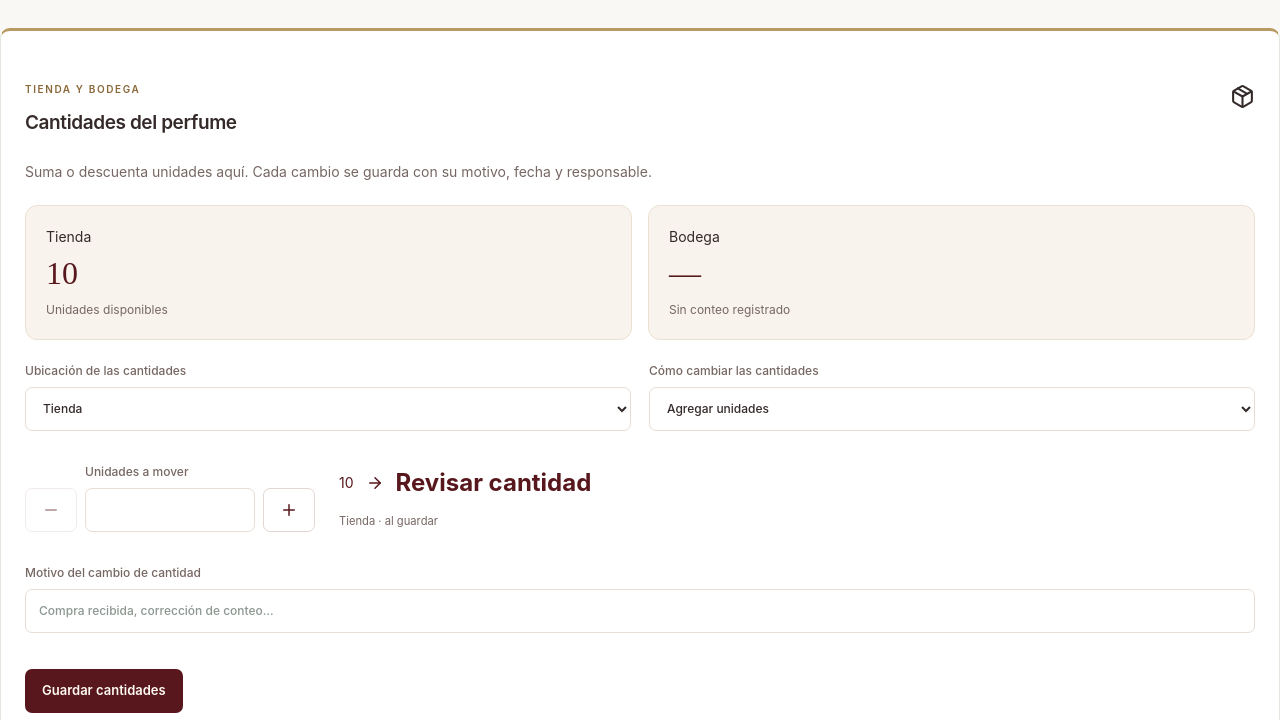
Test: adds a delta and reloads the authoritative stock after saving
The image size is (1280, 720).
Expected: the dropdown labelled "Ubicación de las cantidades" is shown, x1=25 y1=387 x2=631 y2=431
Type "2" into the number field labelled "Unidades a mover" at (170, 510), box x1=85 y1=488 x2=255 y2=532
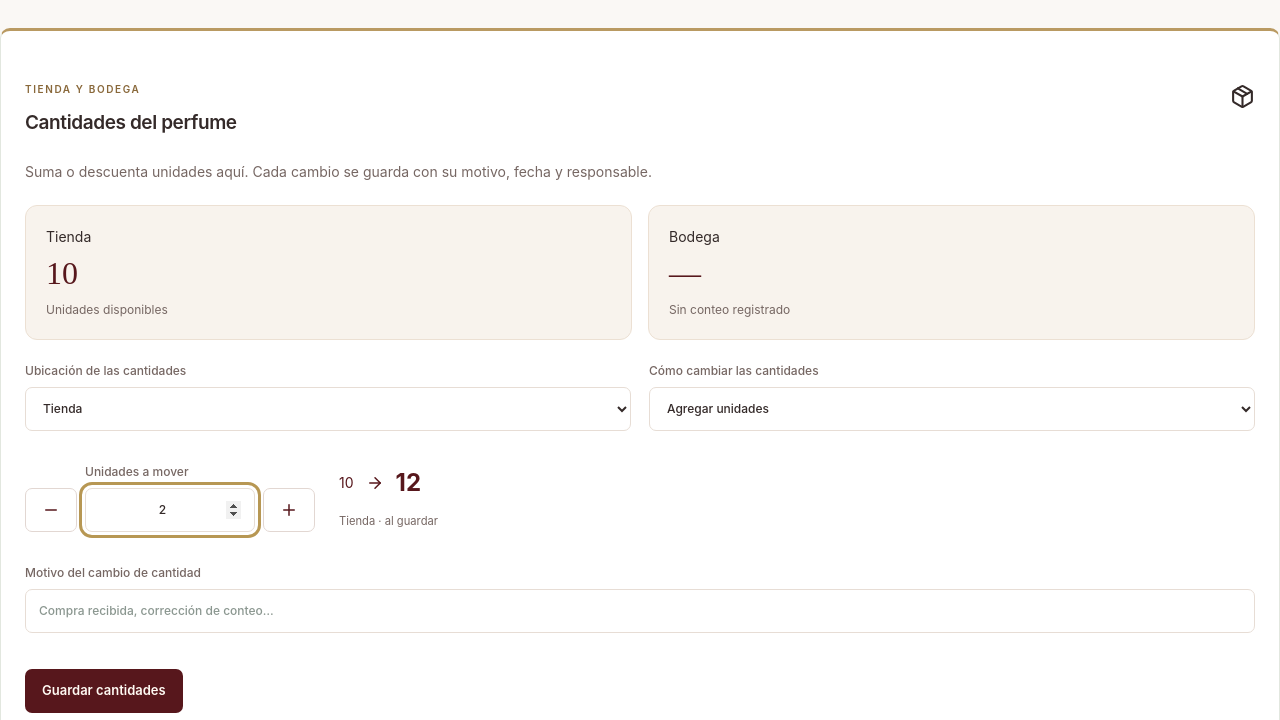
Type "Conteo revisado" into the field labelled "Motivo del cambio de cantidad" at (640, 611), box x1=25 y1=589 x2=1255 y2=633
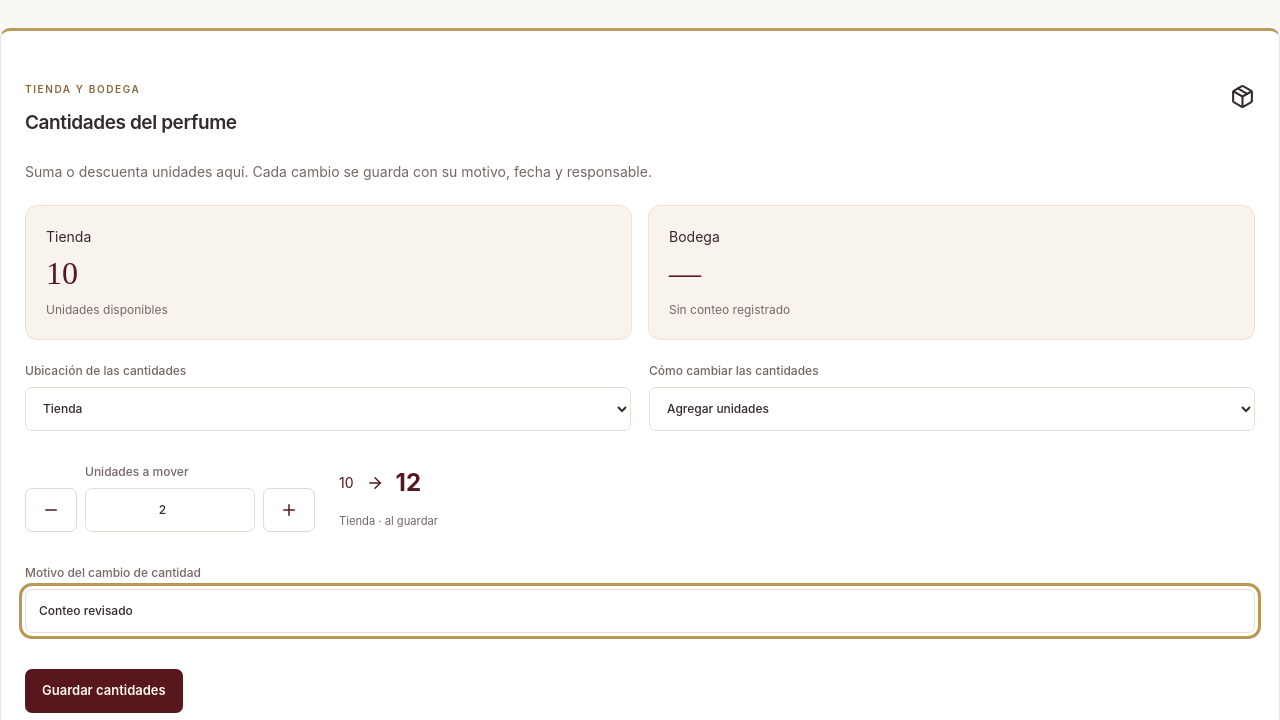
Click the button named "Aumentar cantidad en una unidad" at (289, 510), box x1=263 y1=488 x2=315 y2=532
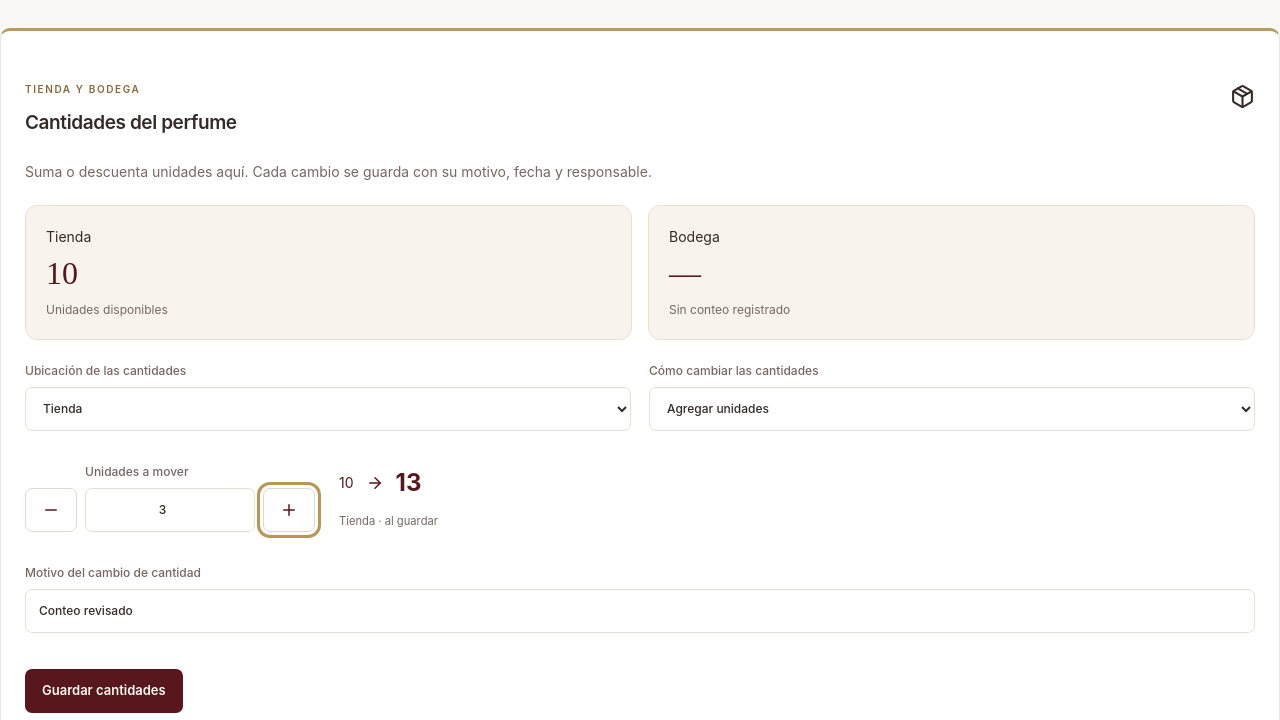
Click the button "Guardar cantidades" at (104, 691), box x1=25 y1=669 x2=183 y2=713
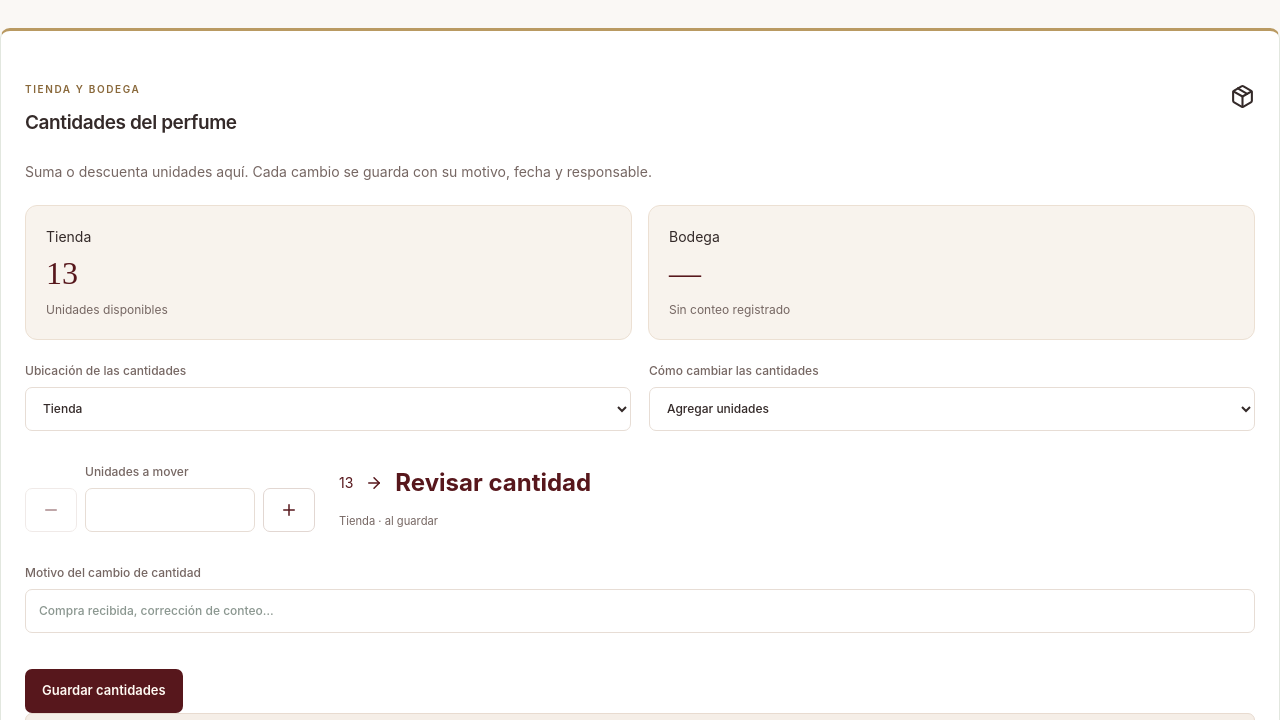
Expected: the 1st text "13" is shown, x1=46 y1=255 x2=78 y2=291
